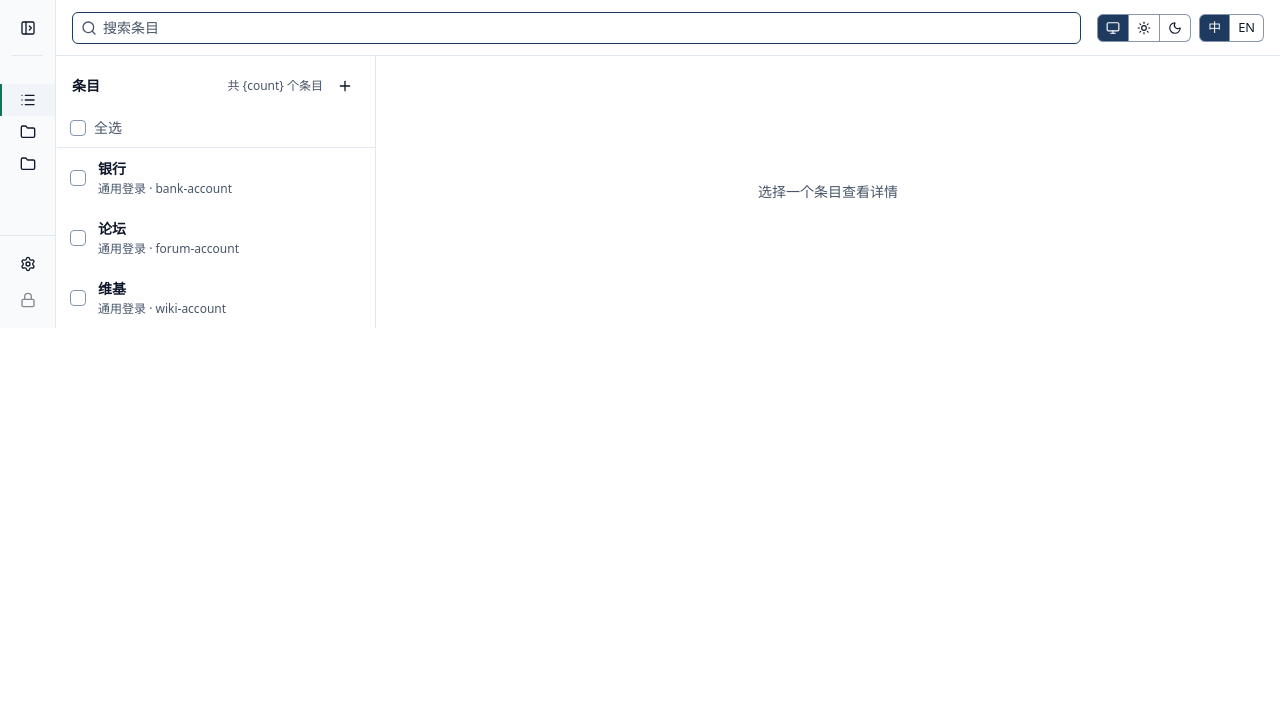
折叠态的设置入口 › 设置按钮只剩图标, 点击仍能打开设置对话框
Click the 5th button named "设置" at (28, 264), box [12,248,43,280]
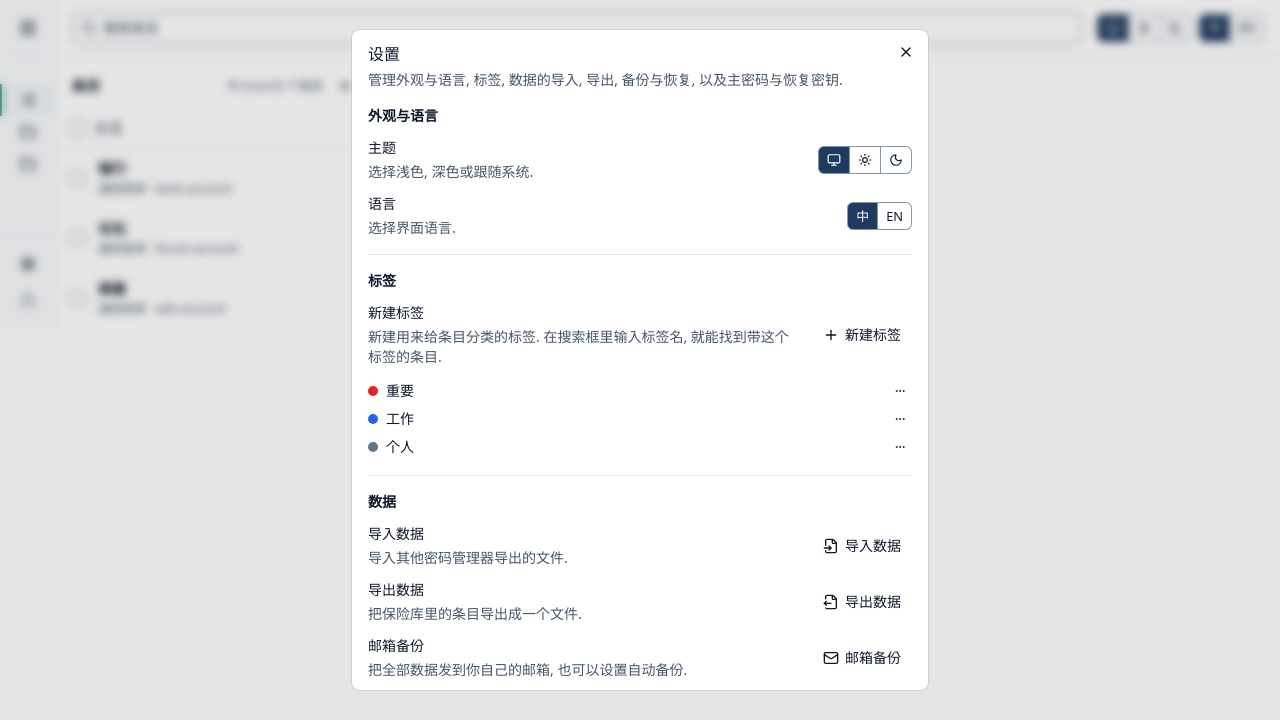
Expected: the dialog "设置" is shown, [352,30,928,690]
